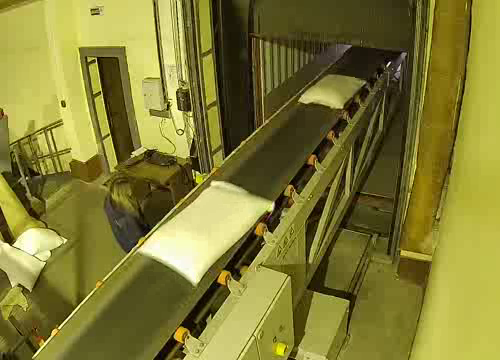bag: (135, 179, 278, 288), (298, 71, 366, 110)
